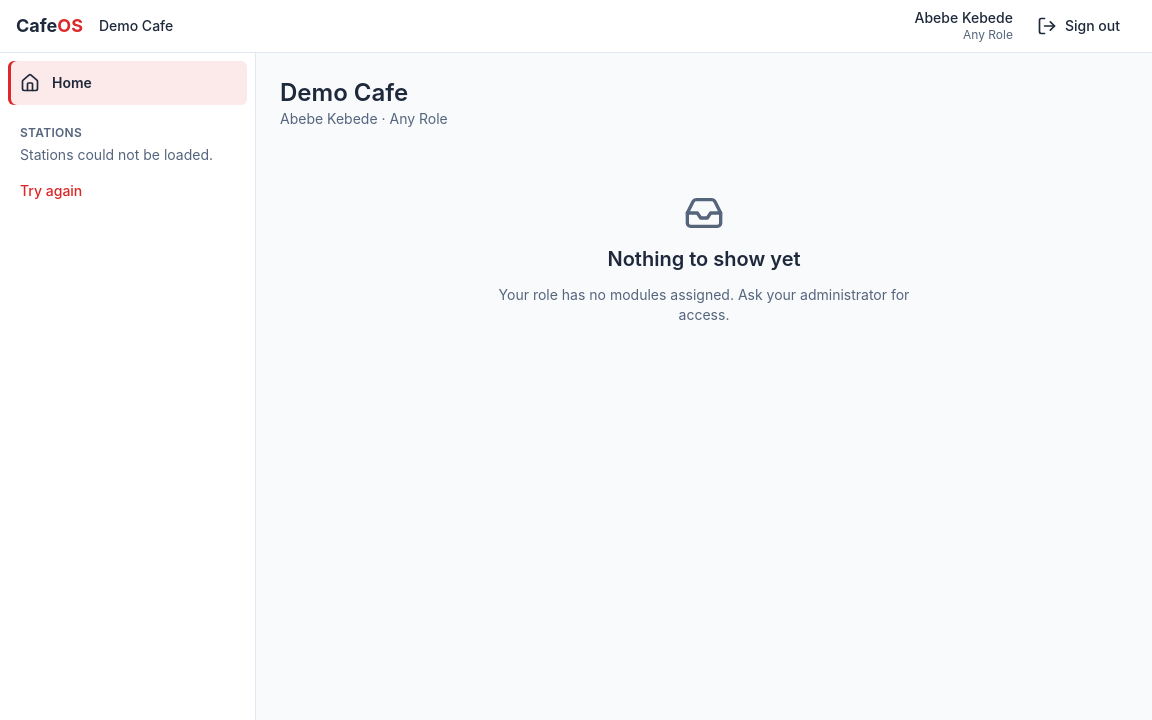
Test: dynamic station navigation › a failed load shows a safe message and retries
Expected: the text "Stations could not be loaded." is shown, [20,145,235,165]
Click the button "Try again".
click(51, 191)  # box [20,169,82,213]
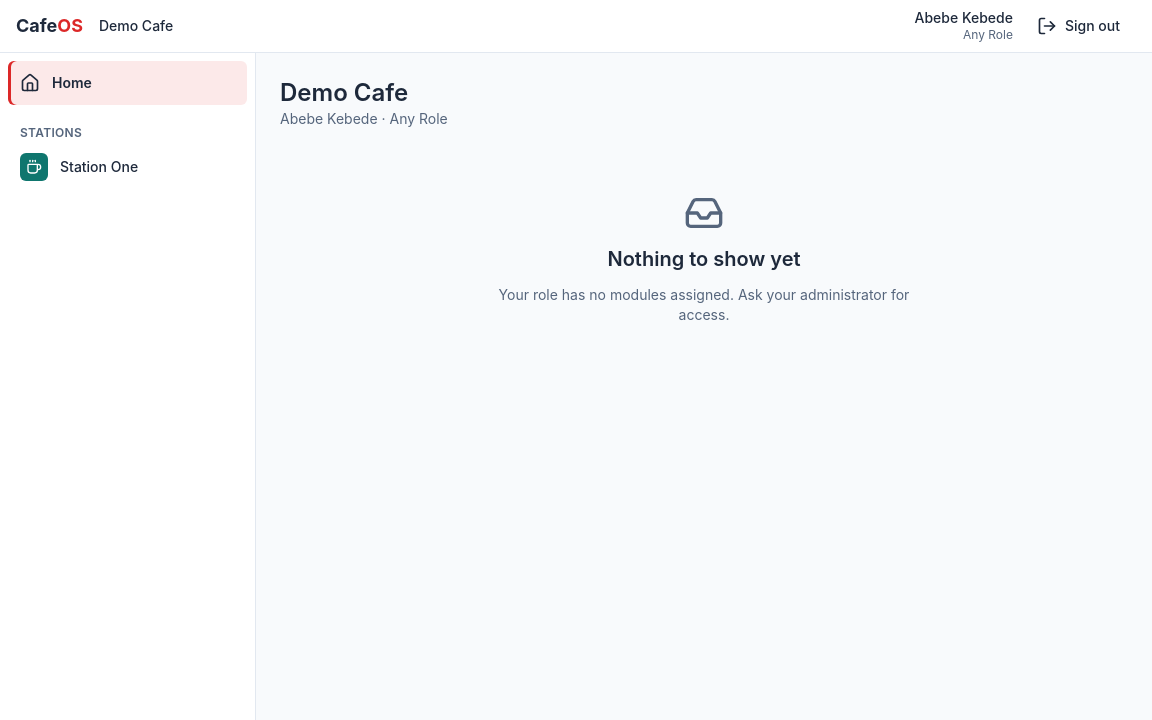
Expected: the link "Station One" is shown, [20,153,138,181]
